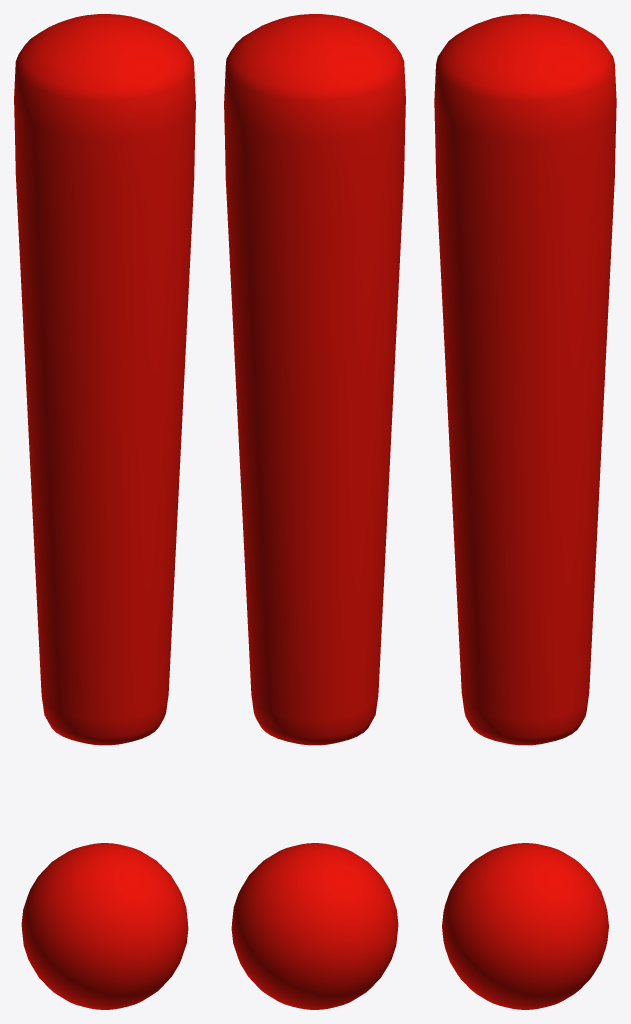
Rendered from biltukri.fbx.
3 renders of one model, left to right at view 1: azimuth 30°, elevation 25°; view 2: azimuth 150°, elevation 25°; view 3: azimuth 270°, elevation 25°, orthographic.
Parts seen in each view (by area): view 1: biltukuri; view 2: biltukuri; view 3: biltukuri.
Boxes of the visible parts, x1,y1,x2,y2 form: biltukuri: [14, 14, 195, 1009]; biltukuri: [224, 14, 405, 1009]; biltukuri: [434, 14, 616, 1009].
Bounding box in the file's own units: 4.98 × 29.43 × 4.98.
